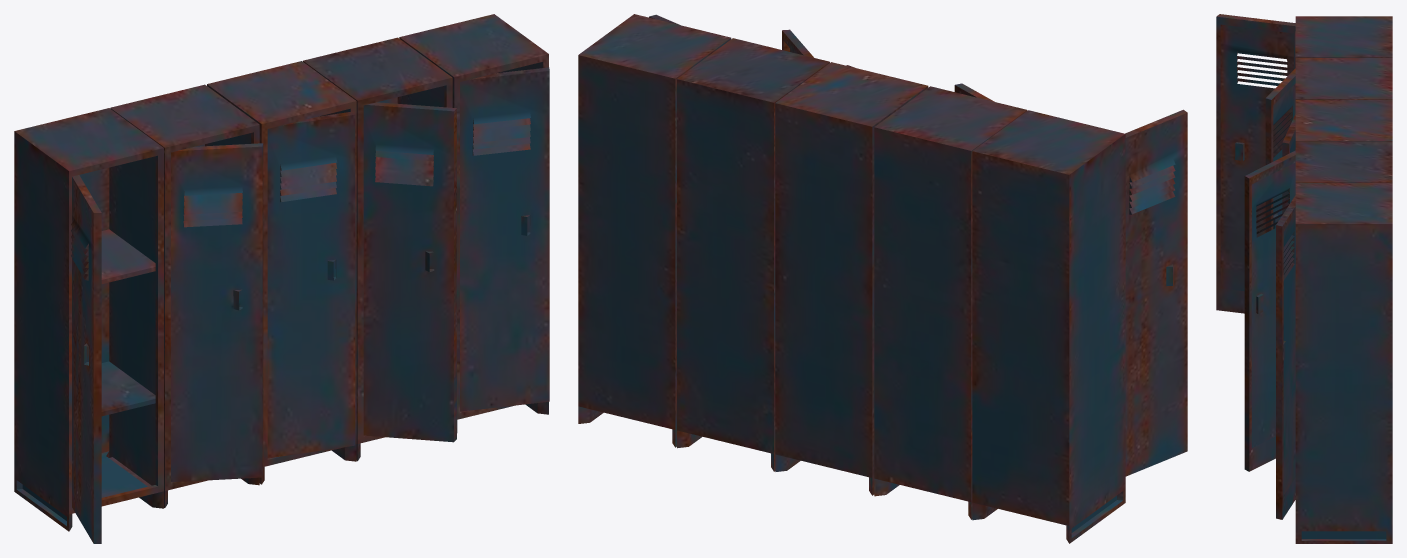
File: locker_row.glb
3 renders of one model, left to right at view 1: azimuth 30°, elevation 25°; view 2: azimuth 150°, elevation 25°; view 3: azimuth 270°, elevation 25°, orthographic. The views are drawn at different scales.
Parts seen in each view (by area): view 1: Object_4; view 2: Object_4; view 3: Object_4.
Part boxes in pixels (x1,y1,x2,y2): Object_4: (14, 14, 549, 543); Object_4: (578, 14, 1187, 543); Object_4: (1216, 14, 1392, 543).
Size of the model in its own units: 2.75 by 1.9 by 0.9502.
Materials: 1 (1 with a texture image).
